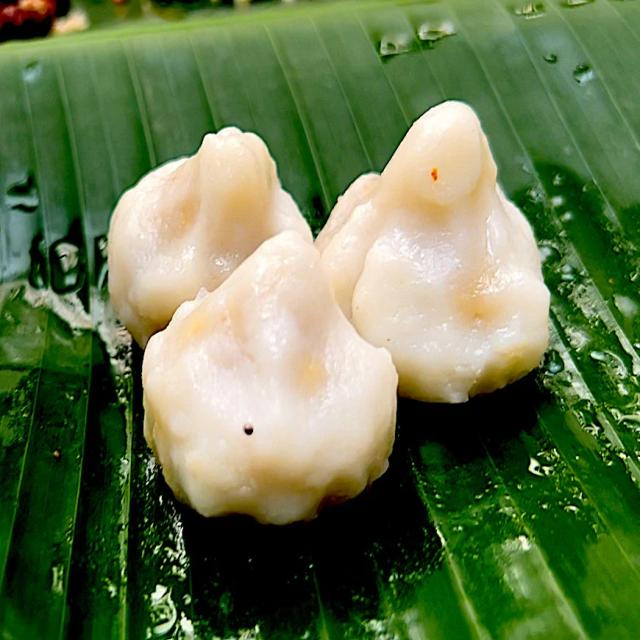poorna kolukattai: (81, 80, 574, 506)
